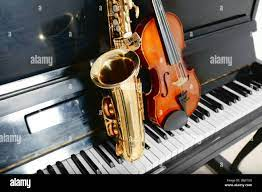Piano: (1, 43, 261, 192)
Saxophone: (80, 2, 162, 166)
Violin: (126, 1, 226, 152)
